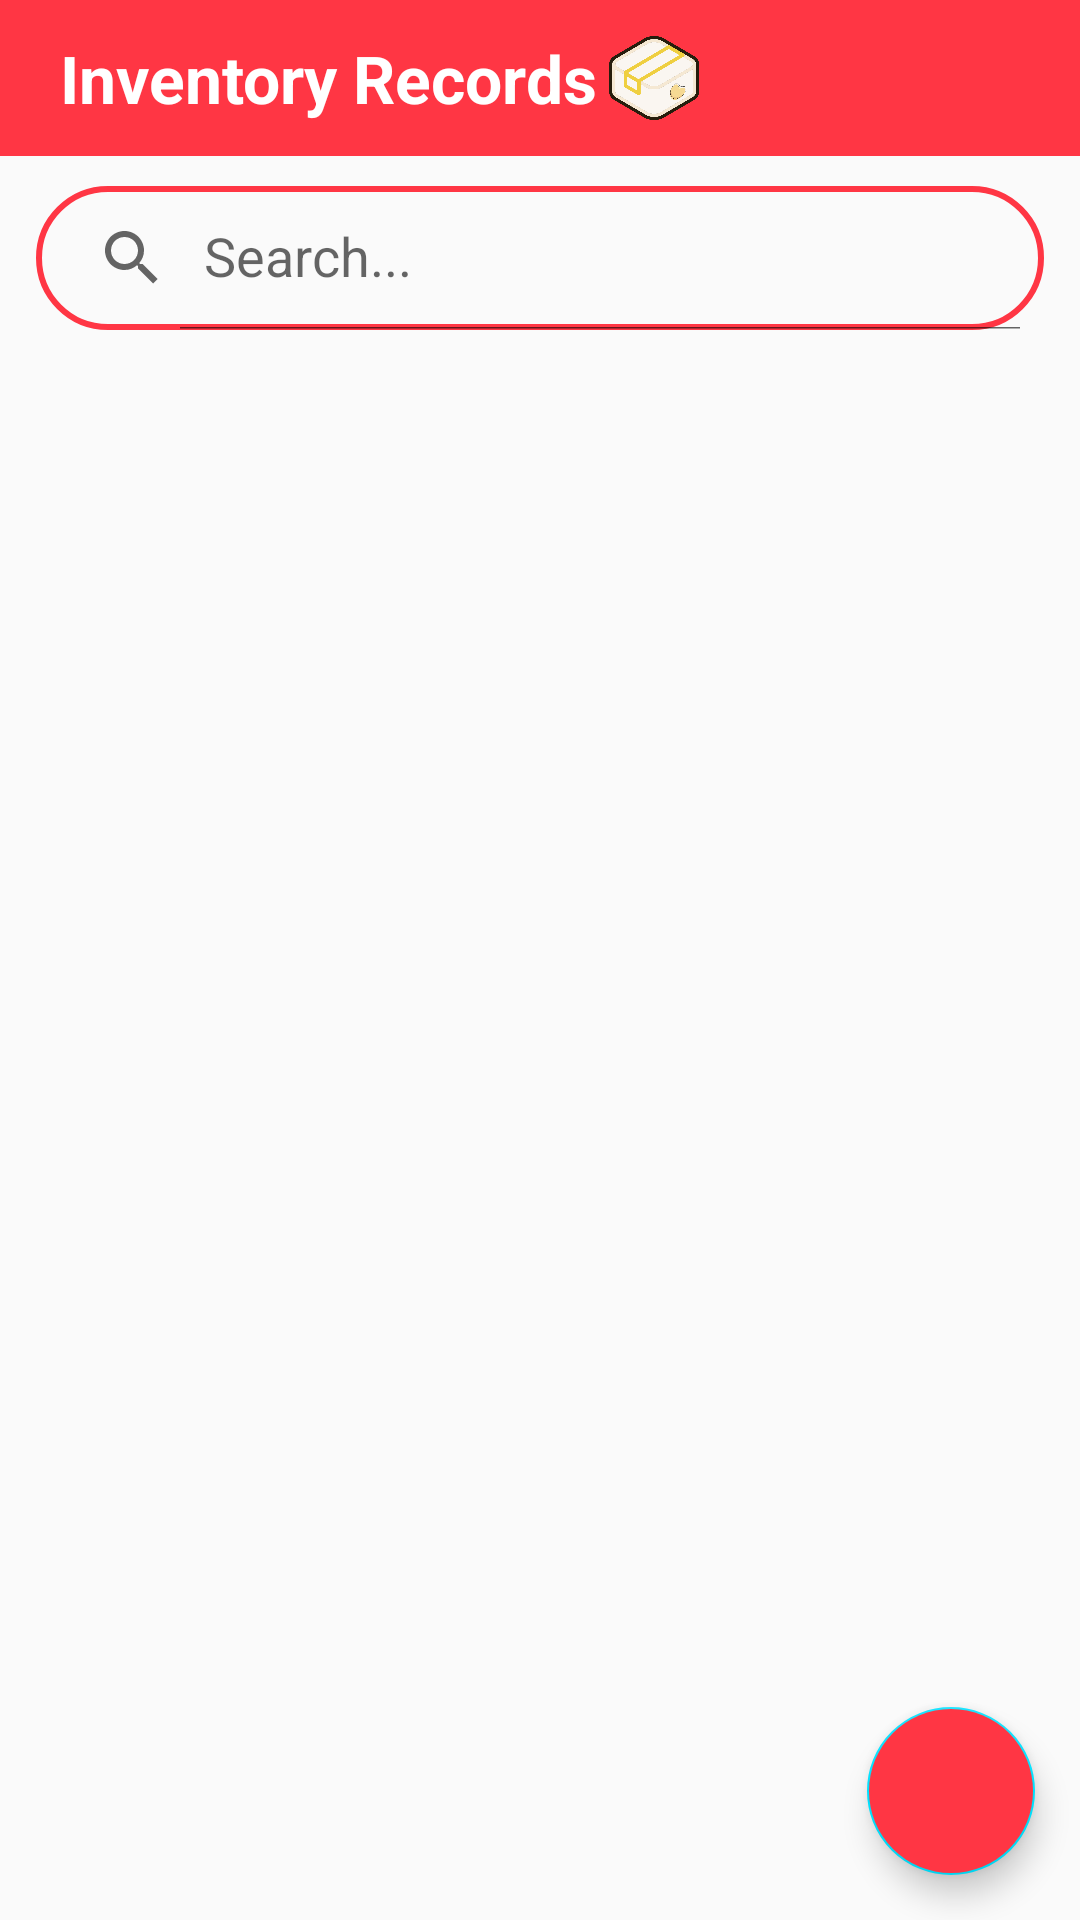

Named icons in this screenshot (1080px x 1920px) and their bounding boxes, (x1, y1, x2, y2):
loogo: (609, 36, 699, 120)
